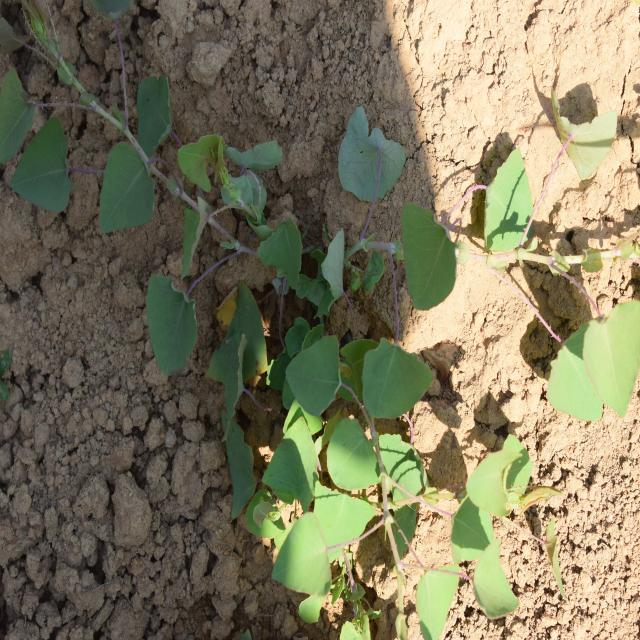Asiatic_Smartweed: (11, 19, 242, 353), (243, 321, 429, 608), (390, 132, 568, 309), (381, 458, 526, 632), (540, 280, 640, 428)
